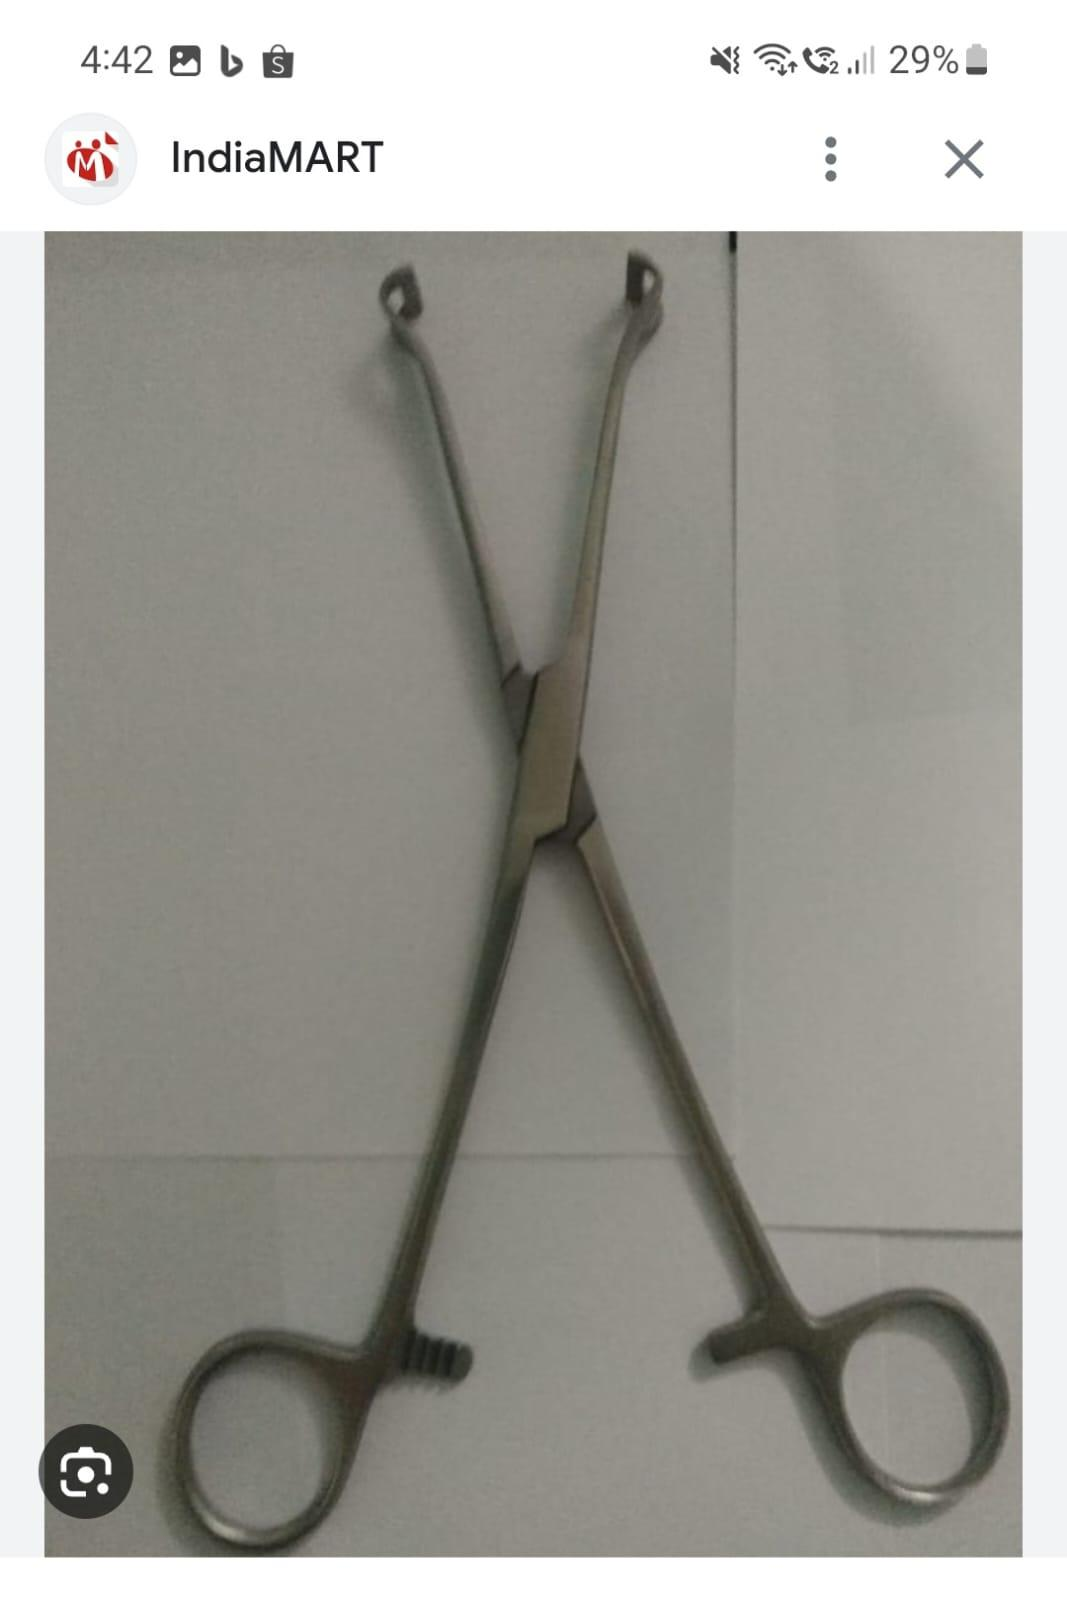Babcock Forceps: (145, 245, 1012, 1548)
